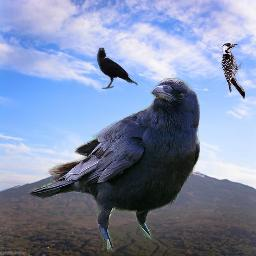Crow: (28, 78, 200, 252), (96, 47, 138, 89)
Woodpecker: (221, 43, 245, 99)
